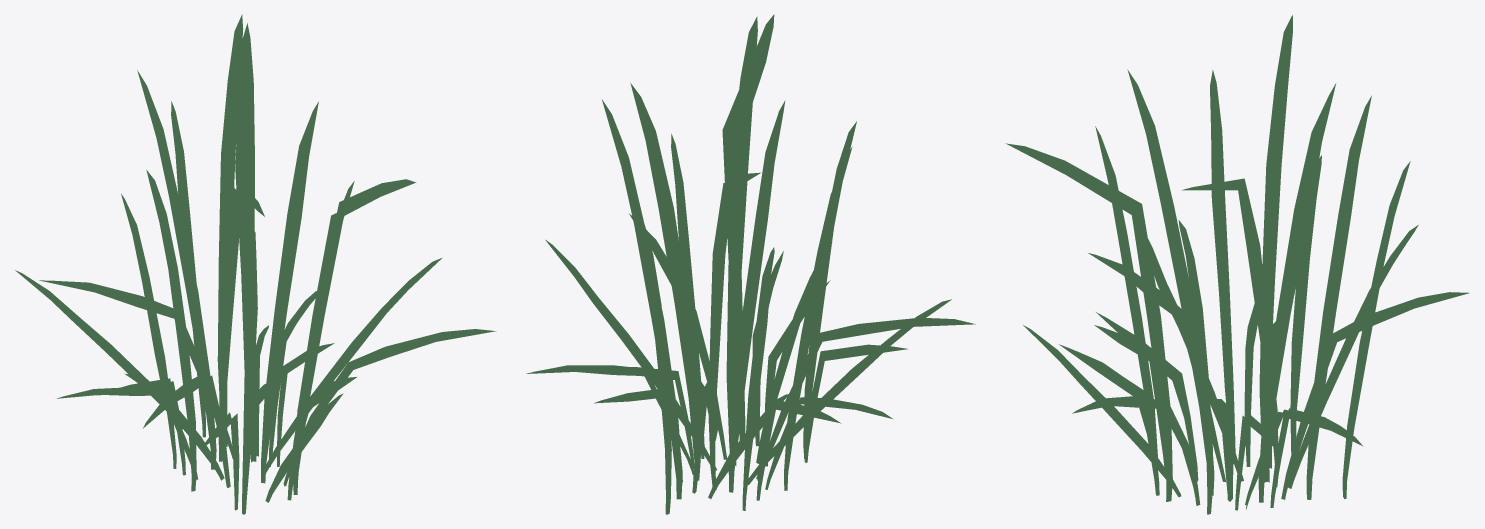
The model's file is Grass_Wispy_Tall.fbx.
The picture shows the model from 3 angles, left to right: view 1: azimuth 30°, elevation 25°; view 2: azimuth 150°, elevation 25°; view 3: azimuth 270°, elevation 25°; orthographic projection. The views are drawn at different scales.
Visible parts, largest first — view 1: Grass_Wispy_Tall; view 2: Grass_Wispy_Tall; view 3: Grass_Wispy_Tall.
Part boxes in pixels (bbox=[...]): Grass_Wispy_Tall: bbox=[15, 14, 496, 514]; Grass_Wispy_Tall: bbox=[526, 14, 975, 514]; Grass_Wispy_Tall: bbox=[1005, 15, 1469, 514].
Size of the model in its own units: 154 by 167 by 159.
